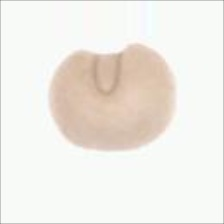L5: (89, 51, 125, 101)
L6: (46, 42, 176, 154)
